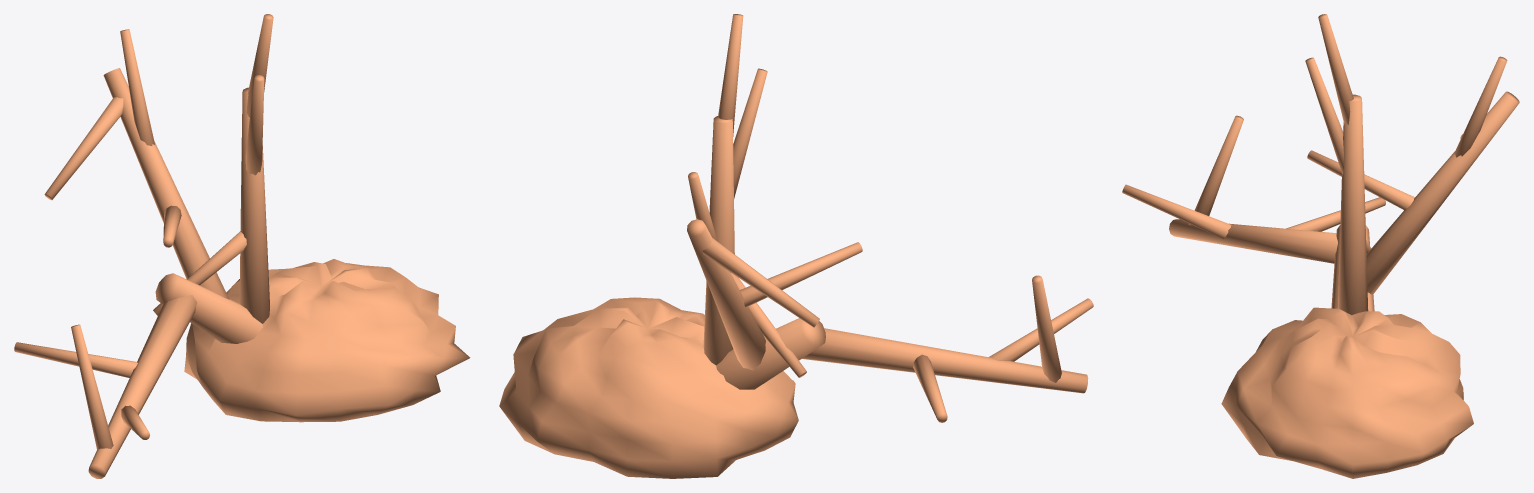
Rendered from underwater-reef-worlds-broken-coral-head-a3cc5d81__7003.glb.
The picture shows the model from 3 angles, left to right: view 1: azimuth 30°, elevation 25°; view 2: azimuth 150°, elevation 25°; view 3: azimuth 270°, elevation 25°; orthographic projection. The views are drawn at different scales.
Parts seen in each view (by area): view 1: broken-coral-head; view 2: broken-coral-head; view 3: broken-coral-head.
Boxes of the visible parts, x1=… form: broken-coral-head: x1=14, y1=14, x2=470, y2=478; broken-coral-head: x1=499, y1=14, x2=1093, y2=478; broken-coral-head: x1=1122, y1=14, x2=1519, y2=478.
Bounding box in the file's own units: 1.23 × 1.07 × 0.9821.
